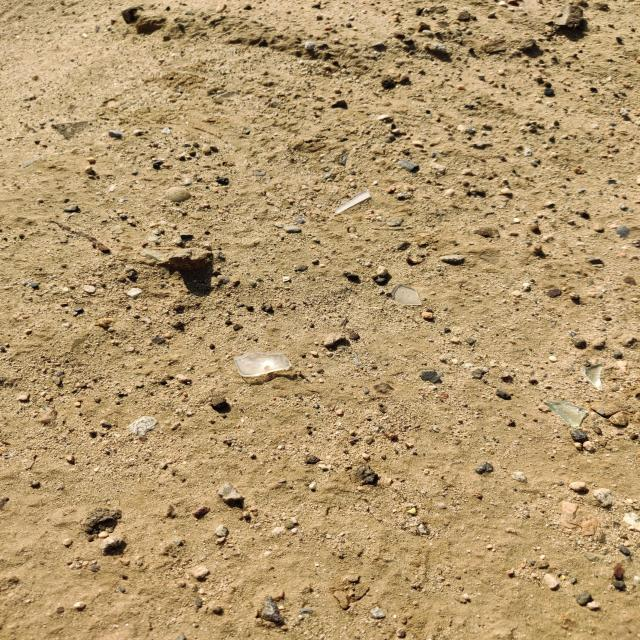litter: (233, 284, 603, 427)
